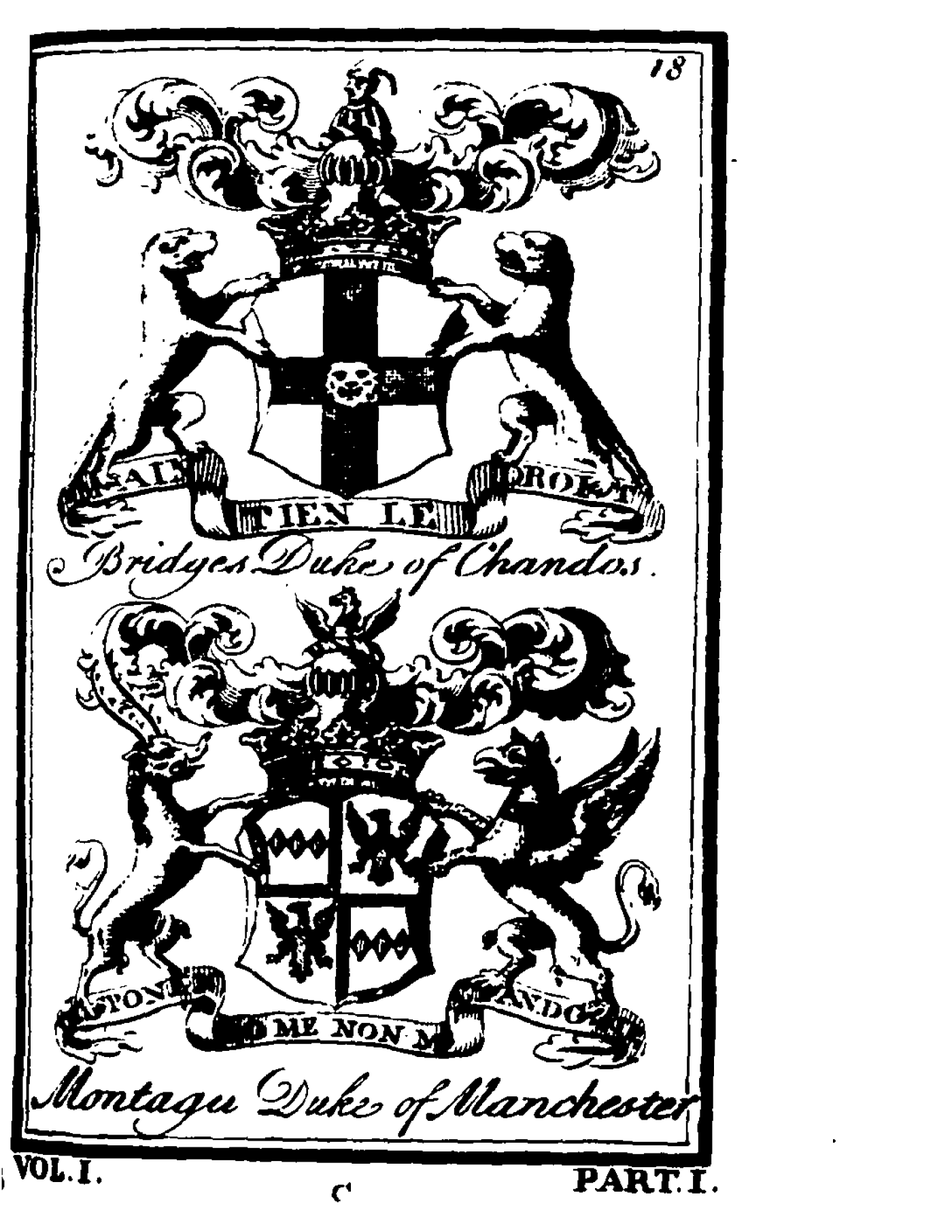coat_of_arms: (41, 589, 694, 1132), (53, 45, 680, 589)
